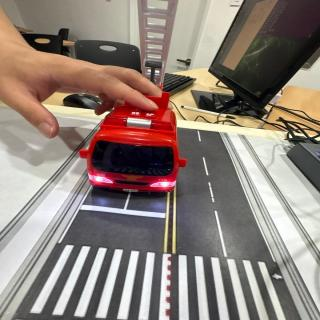Fire_truck: (80, 92, 187, 192)
